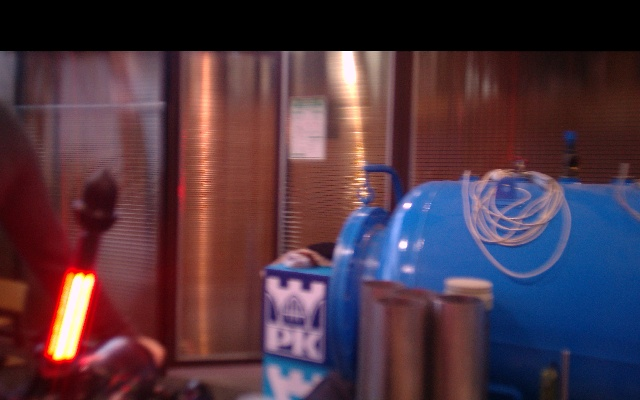red: (45, 272, 96, 362)
